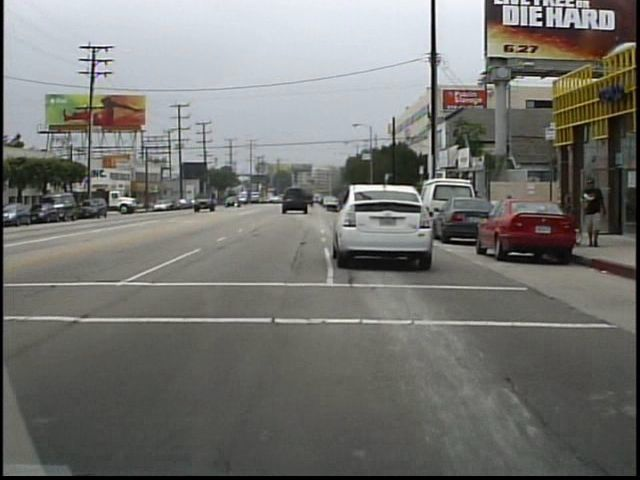person: (580, 174, 609, 251)
